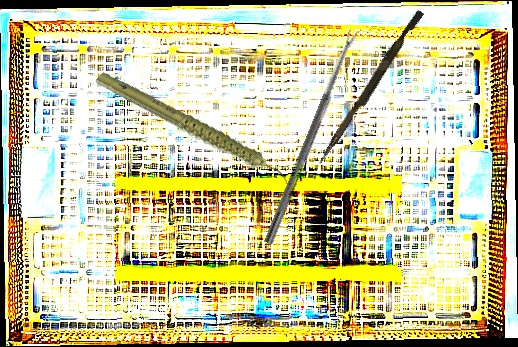Handpiece: (93, 36, 293, 225)
Pusher: (316, 7, 425, 169)
Surgical Spoon: (263, 28, 360, 246)
